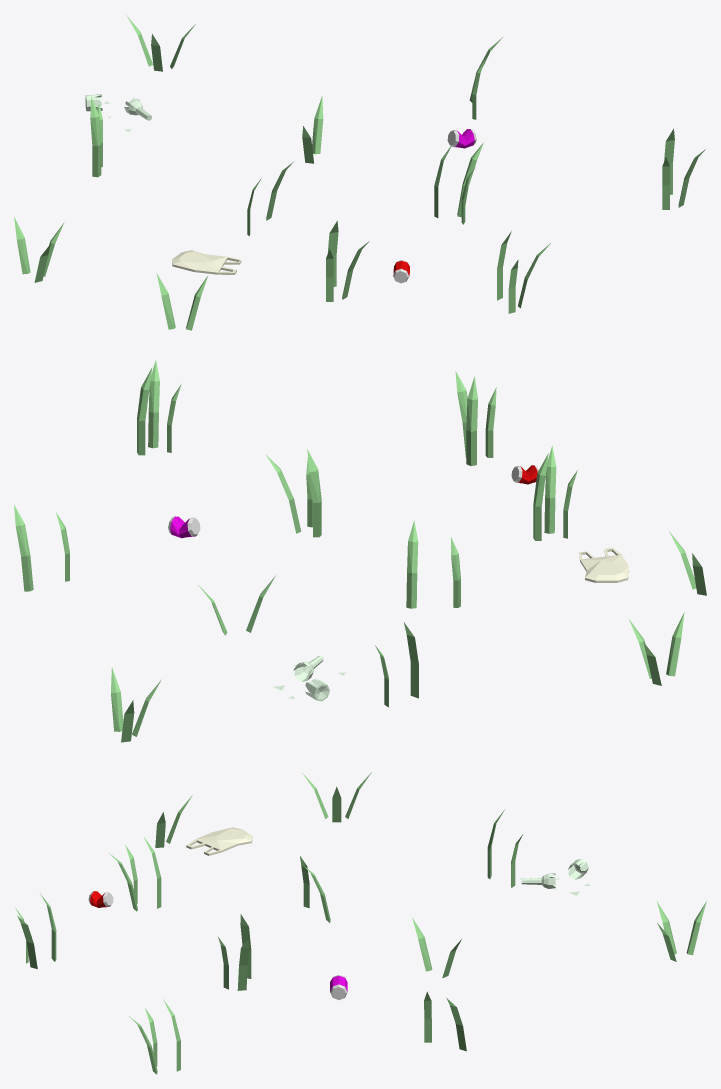
The model's file is Garbage1.fbx.
The picture shows the model from 3 angles, top to bottom: view 1: azimuth 30°, elevation 25°; view 2: azimuth 150°, elevation 25°; view 3: azimuth 270°, elevation 25°; orthographic projection. The views are drawn at different scales.
Visible parts, largest first — view 1: Garbage1; view 2: Garbage1; view 3: Garbage1.
Part boxes in pixels (x1,y1,x2,y2): Garbage1: [14, 15, 705, 330]; Garbage1: [14, 360, 706, 742]; Garbage1: [15, 772, 706, 1074].
Size of the model in its own units: 5.17 by 0.7051 by 5.66.
